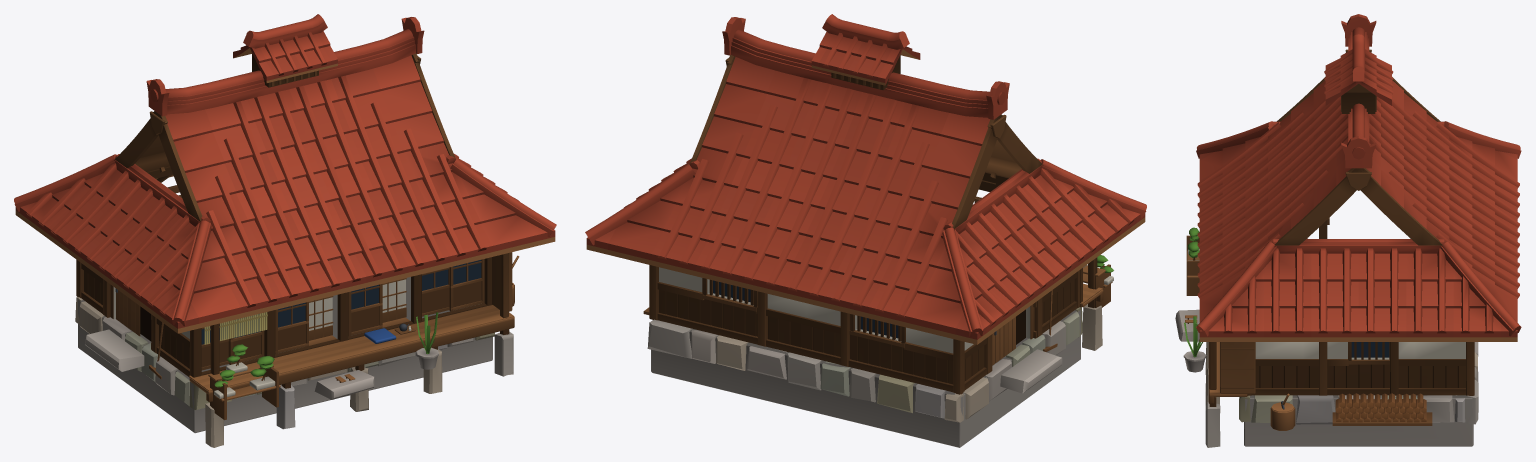
Rendered from kawabe-house-b.glb.
The picture shows the model from 3 angles, left to right: view 1: azimuth 30°, elevation 25°; view 2: azimuth 150°, elevation 25°; view 3: azimuth 270°, elevation 25°; orthographic projection. The views are drawn at different scales.
Parts seen in each view (by area): view 1: Kawabe house B Roof tile, Kawabe house B Wood, Kawabe house B Plaster, Kawabe house B Window glow, Kawabe house B Leaf; view 2: Kawabe house B Roof tile, Kawabe house B Plaster, Kawabe house B Wood, Kawabe house B Window glow; view 3: Kawabe house B Roof tile, Kawabe house B Wood, Kawabe house B Plaster, Kawabe house B Leaf, Kawabe house B Window glow.
Part boxes in pixels (box(x1,y1,x2,y2)): Kawabe house B Roof tile: box(14, 14, 556, 328); Kawabe house B Wood: box(15, 48, 555, 420); Kawabe house B Plaster: box(75, 277, 513, 447); Kawabe house B Window glow: box(201, 260, 481, 344); Kawabe house B Leaf: box(214, 312, 438, 387); Kawabe house B Roof tile: box(585, 14, 1146, 339); Kawabe house B Plaster: box(647, 265, 1113, 447); Kawabe house B Wood: box(586, 49, 1145, 394); Kawabe house B Window glow: box(713, 280, 898, 338); Kawabe house B Roof tile: box(1196, 14, 1521, 337); Kawabe house B Wood: box(1185, 49, 1517, 430); Kawabe house B Plaster: box(1175, 249, 1478, 447); Kawabe house B Leaf: box(1184, 227, 1202, 357); Kawabe house B Window glow: box(1351, 342, 1389, 357).
Size of the model in its own units: 9.3 by 7.59 by 7.29.
